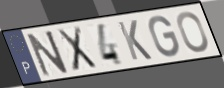4: (97, 22, 125, 67)
G: (148, 14, 181, 59)
K: (116, 19, 155, 62)
N: (25, 29, 71, 78)
O: (176, 10, 210, 54)
X: (55, 25, 99, 74)
